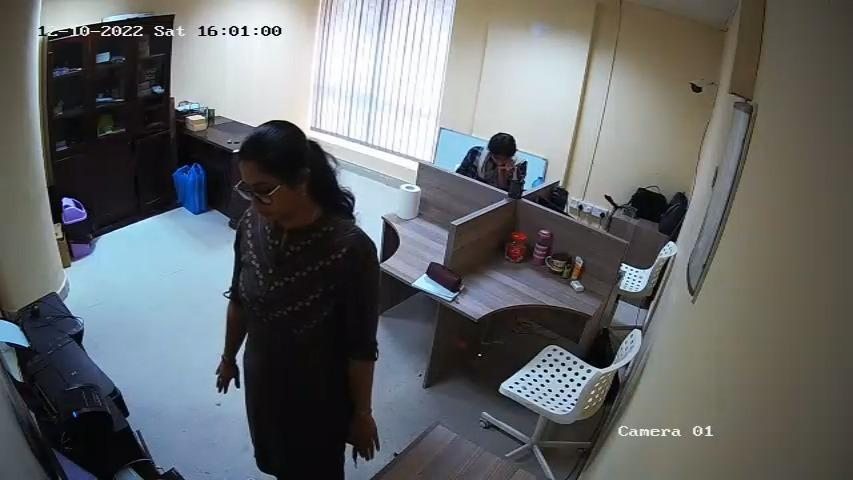no_apron: (344, 411, 384, 465), (212, 360, 240, 396), (490, 149, 514, 190)
no_gloves: (234, 122, 342, 192), (481, 128, 526, 162)
no_hairnet: (239, 188, 307, 224), (488, 150, 510, 175)
